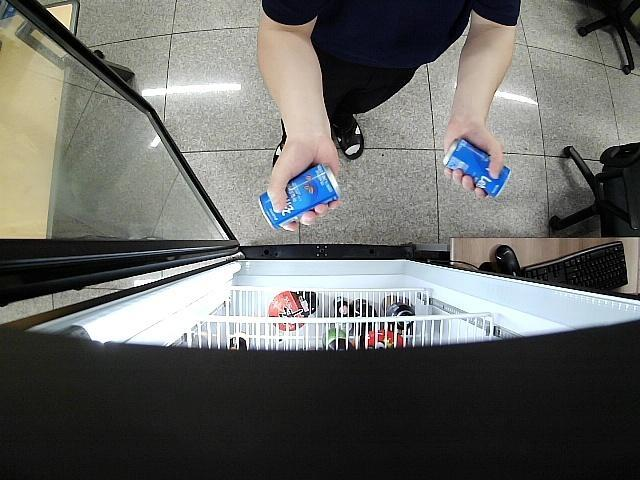15_letsbe: (258, 167, 342, 226), (443, 139, 510, 196)
